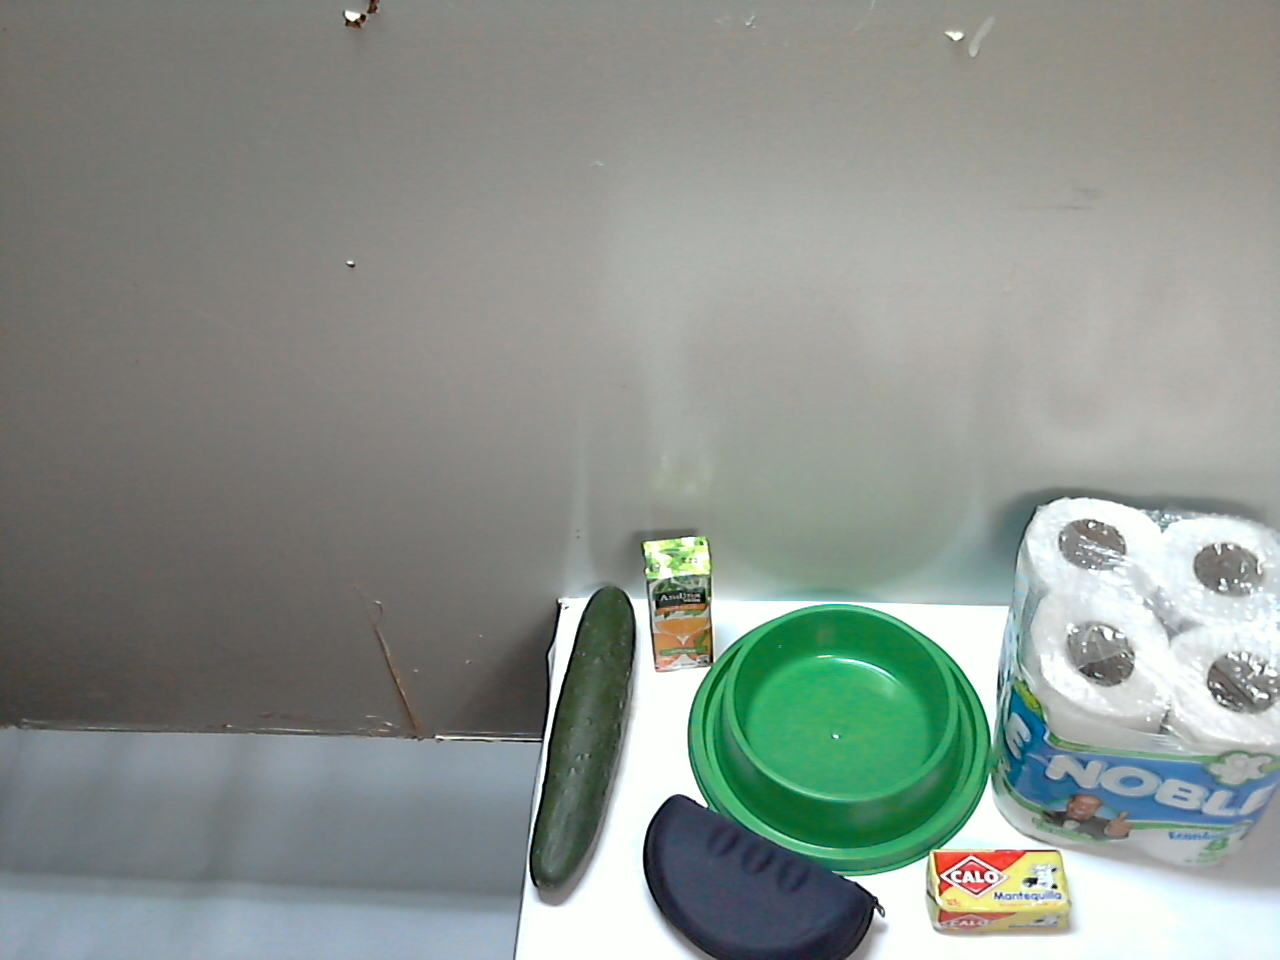cafe: (867, 611, 1027, 807)
cubix: (866, 832, 994, 960)
lata: (741, 763, 861, 942)
pescado: (996, 786, 1163, 960)
platoperro: (477, 659, 782, 928)
yogurt: (1043, 521, 1211, 802)
